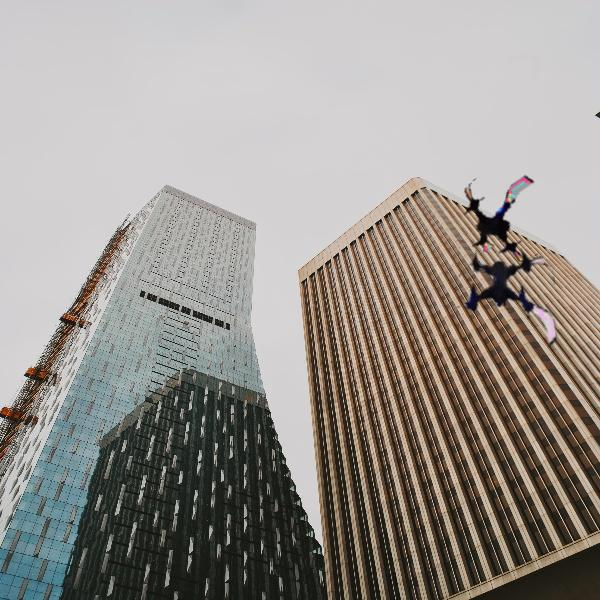drone: (439, 238, 565, 364), (457, 167, 561, 271)
